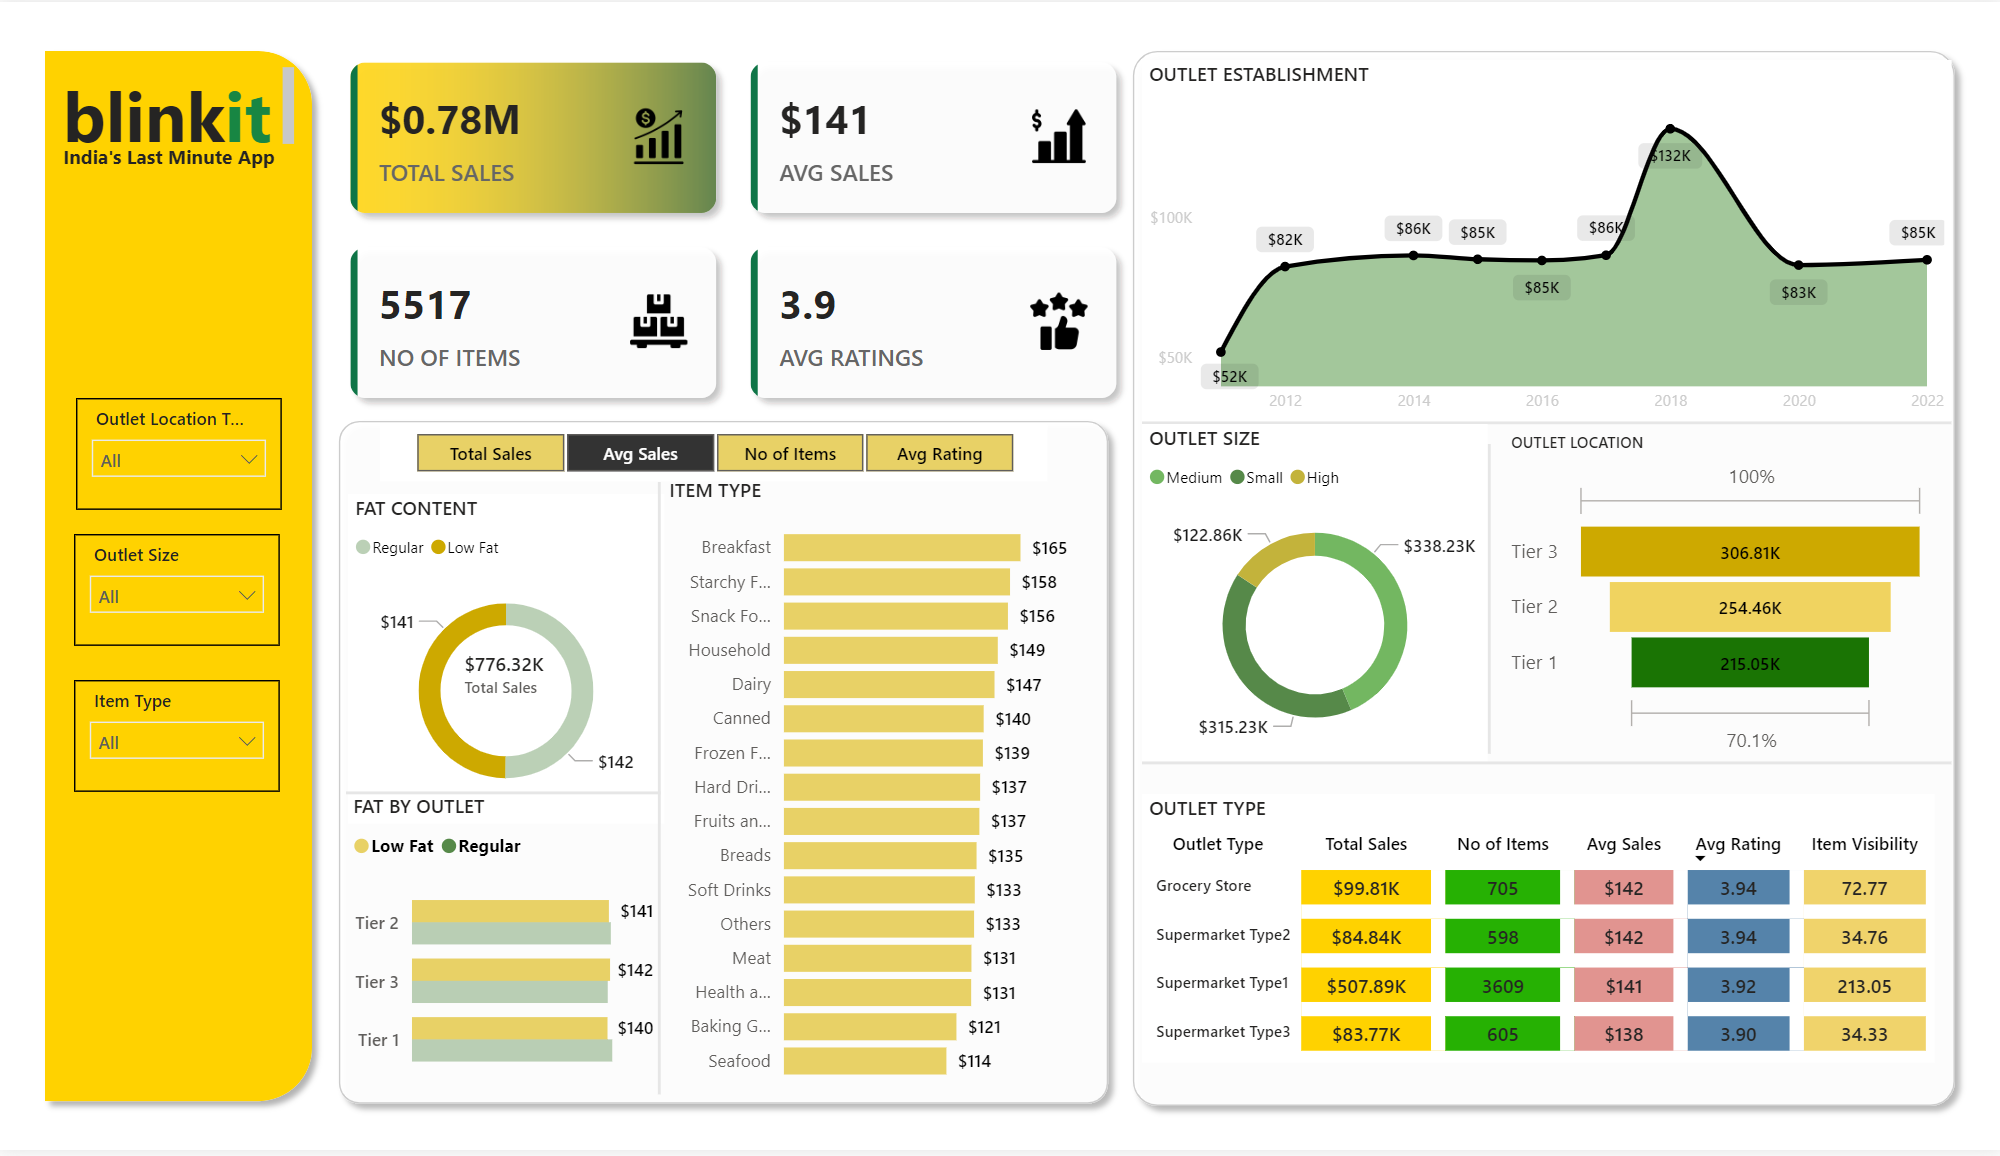

Layout of this report page (visuals, bound fields, positions):
{"tool":"powerbi","page":{"name":"Page 1","canvas":[1400,800],"ordinal":0},"visuals":[{"type":"shape","box":[25.1,25.1,204.3,750.2],"z":0},{"type":"textbox","box":[278,703.3,204.3,73.7],"z":1000},{"type":"textbox","box":[41.9,40.2,170.8,68.7],"z":2000},{"type":"textbox","box":[529.2,360,204.3,56.9],"z":3000},{"type":"textbox","box":[41.9,93.8,170.8,28.5],"z":4000},{"type":"cardVisual","fields":{"Data":["BlinkIT Grocery Data.Total Sales","BlinkIT Grocery Data.Avg Sales","BlinkIT Grocery Data.No of Items","BlinkIT Grocery Data.Avg Rating"]},"box":[229.4,25.1,569.4,269.6],"z":5000},{"type":"shape","box":[229.4,283,554.3,494],"z":6000},{"type":"donutChart","title":"FAT CONTENT","fields":{"Y":["BlinkIT Grocery Data.Avg Sales","BlinkIT Grocery Data.Avg Sales"],"Category":["BlinkIT Grocery Data.Item Fat Content"]},"box":[245.4,343,220.3,230.1],"z":7000},{"type":"slicer","fields":{"Values":["Metrics.Metrics"]},"box":[267.9,294.7,465.6,40.2],"z":8000},{"type":"cardVisual","fields":{"Data":["BlinkIT Grocery Data.Total Sales"]},"box":[309.8,435.4,90.4,67],"z":9000},{"type":"clusteredBarChart","title":"FAT BY OUTLET","fields":{"Y":["BlinkIT Grocery Data.Avg Sales"],"Category":["BlinkIT Grocery Data.Outlet Location Type"],"Series":["BlinkIT Grocery Data.Item Fat Content"]},"box":[244.5,551,219.4,211],"z":10000},{"type":"shape","box":[244.5,502.4,219.4,98.8],"z":11000},{"type":"shape","box":[353.3,334.9,219.4,427],"z":12000},{"type":"barChart","title":"ITEM TYPE","fields":{"Y":["BlinkIT Grocery Data.Avg Sales"],"Category":["BlinkIT Grocery Data.Item Type"]},"box":[463.9,329.9,288,432.1],"z":13000},{"type":"shape","box":[783.7,25.1,591.1,753.6],"z":14000},{"type":"lineChart","title":"OUTLET ESTABLISHMENT","fields":{"Y":["BlinkIT Grocery Data.Total Sales"],"Category":["BlinkIT Grocery Data.Outlet Establishment Year"]},"box":[798.8,40.2,564.4,254.5],"z":15000},{"type":"shape","box":[798.8,244.5,564.4,98.8],"z":16000},{"type":"donutChart","title":"OUTLET SIZE","fields":{"Y":["BlinkIT Grocery Data.Total Sales"],"Category":["BlinkIT Grocery Data.Outlet Size"]},"box":[798.8,294.7,241.1,236.1],"z":17000},{"type":"shape","box":[931.1,308.1,219.4,216],"z":18000},{"type":"funnel","title":"OUTLET LOCATION ","fields":{"Y":["Sum(BlinkIT Grocery Data.Sales)"],"Category":["BlinkIT Grocery Data.Outlet Location Type"]},"box":[1051.7,299.8,299.8,230],"z":19000},{"type":"shape","box":[798.8,480.6,564.4,98.8],"z":19001},{"type":"pivotTable","title":"OUTLET TYPE","fields":{"Rows":["BlinkIT Grocery Data.Outlet Type"],"Values":["BlinkIT Grocery Data.Total Sales","BlinkIT Grocery Data.No of Items","BlinkIT Grocery Data.Avg Sales","BlinkIT Grocery Data.Avg Rating","Sum(BlinkIT Grocery Data.Item Visibility)"]},"box":[798.8,552.6,552.6,187.6],"z":19002},{"type":"slicer","fields":{"Values":["BlinkIT Grocery Data.Outlet Size"]},"box":[54.4,370.9,143.6,78.1],"z":19004},{"type":"slicer","fields":{"Values":["BlinkIT Grocery Data.Item Type"]},"box":[54.4,472.7,143.6,78.1],"z":19005},{"type":"slicer","fields":{"Values":["BlinkIT Grocery Data.Outlet Location Type"]},"box":[55.8,276.1,143.6,78.1],"z":19006}]}

Visuals, with their boxes in screenshot pixels (x1, y1, x2, y2), scaled from the page's 1400x800 canvas onto the 2000x1156 screenshot:
shape: locate(36, 36, 328, 1120)
textbox: locate(397, 1016, 689, 1123)
textbox: locate(60, 58, 304, 157)
textbox: locate(756, 520, 1048, 602)
textbox: locate(60, 136, 304, 177)
cardVisual - BlinkIT Grocery Data.Total Sales x BlinkIT Grocery Data.Avg Sales: locate(328, 36, 1141, 426)
shape: locate(328, 409, 1120, 1123)
"FAT CONTENT" donutChart: locate(351, 496, 665, 828)
slicer - Metrics.Metrics: locate(383, 426, 1048, 484)
cardVisual - BlinkIT Grocery Data.Total Sales: locate(443, 629, 572, 726)
"FAT BY OUTLET" clusteredBarChart: locate(349, 796, 663, 1101)
shape: locate(349, 726, 663, 869)
shape: locate(505, 484, 818, 1101)
"ITEM TYPE" barChart: locate(663, 477, 1074, 1101)
shape: locate(1120, 36, 1964, 1125)
"OUTLET ESTABLISHMENT" lineChart: locate(1141, 58, 1947, 426)
shape: locate(1141, 353, 1947, 496)
"OUTLET SIZE" donutChart: locate(1141, 426, 1486, 767)
shape: locate(1330, 445, 1644, 757)
"OUTLET LOCATION " funnel: locate(1502, 433, 1931, 766)
shape: locate(1141, 694, 1947, 837)
"OUTLET TYPE" pivotTable: locate(1141, 799, 1931, 1070)
slicer - BlinkIT Grocery Data.Outlet Size: locate(78, 536, 283, 649)
slicer - BlinkIT Grocery Data.Item Type: locate(78, 683, 283, 796)
slicer - BlinkIT Grocery Data.Outlet Location Type: locate(80, 399, 285, 512)
